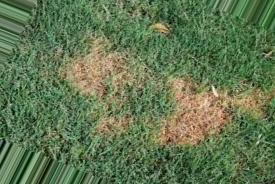patch: (168, 95, 229, 137), (72, 55, 122, 88)
